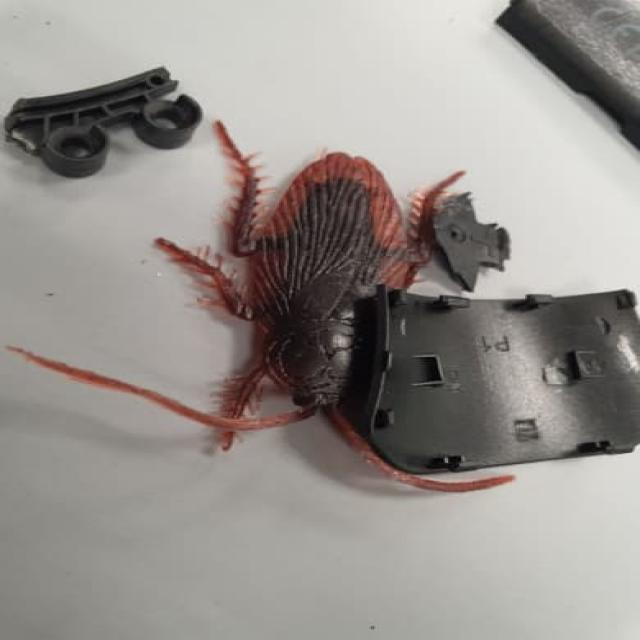Cockroach: (104, 100, 536, 502)
